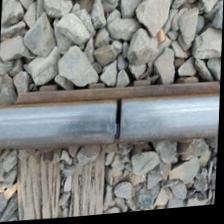person: (88, 88, 152, 153)
